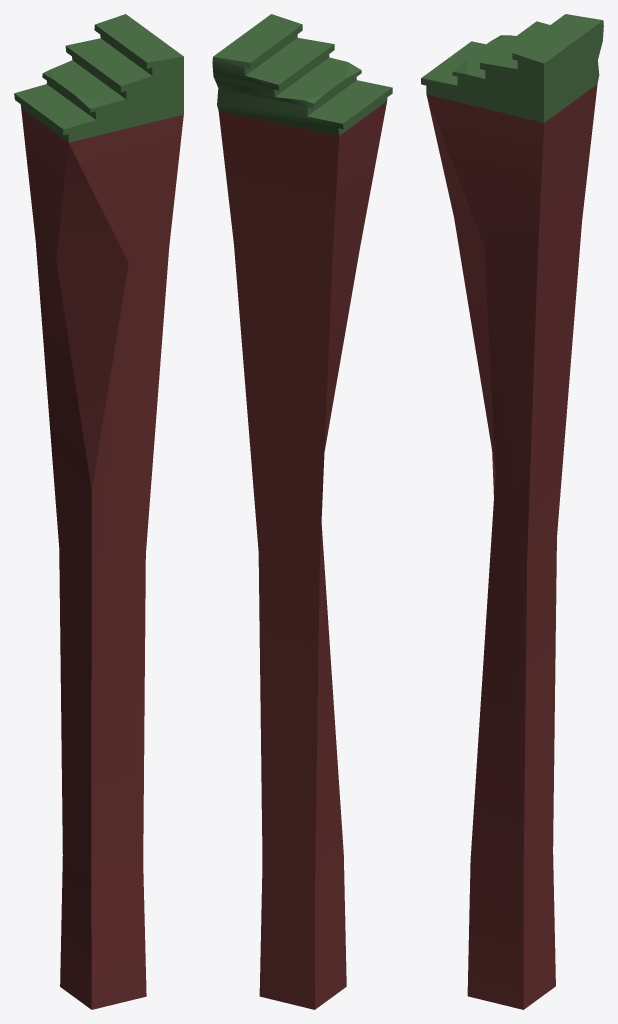
Rendered from mesh_muroescalera4.fbx.
The picture shows the model from 3 angles, left to right: view 1: azimuth 30°, elevation 25°; view 2: azimuth 150°, elevation 25°; view 3: azimuth 330°, elevation 25°; orthographic projection. The views are drawn at different scales.
Visible parts, largest first — view 1: mesh_muroescalera4; view 2: mesh_muroescalera4; view 3: mesh_muroescalera4.
Part boxes in pixels (box(x1,y1,x2,y2)): mesh_muroescalera4: box(14, 14, 183, 1009); mesh_muroescalera4: box(212, 14, 392, 1009); mesh_muroescalera4: box(421, 14, 603, 1009).
Bounding box in the file's own units: 1177 × 8773 × 1020.
